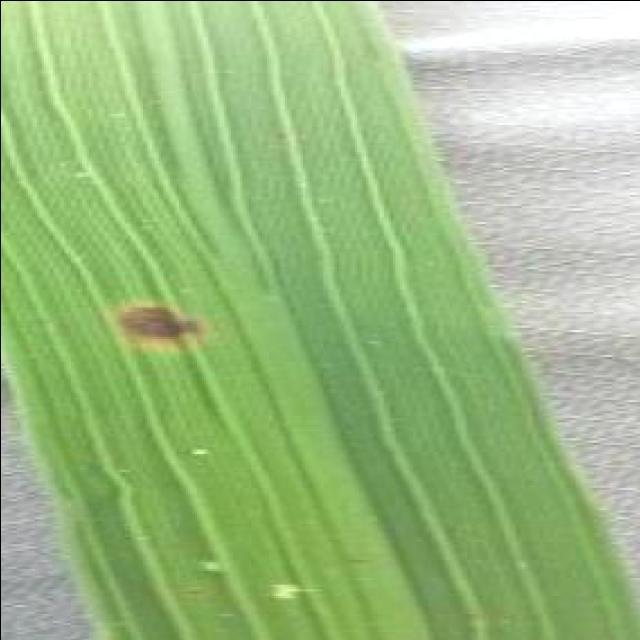Brown_Spot: (102, 282, 218, 361)
